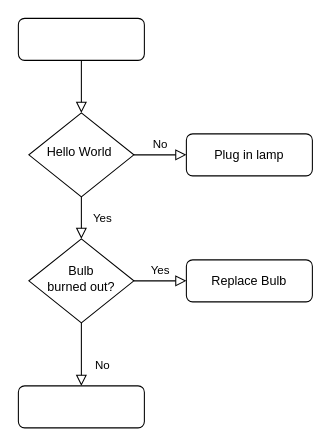
The diagram is 331 pixels wide and 446 high, and some of its shapes have lost their labels. The shapes that lost their labels are listed below. From the top down, each one's box as (x1, y1, x2, y2) in pixels, then its label:
(17, 17, 144, 60): Lamp doesn't work
(17, 385, 144, 428): Repair Lamp
